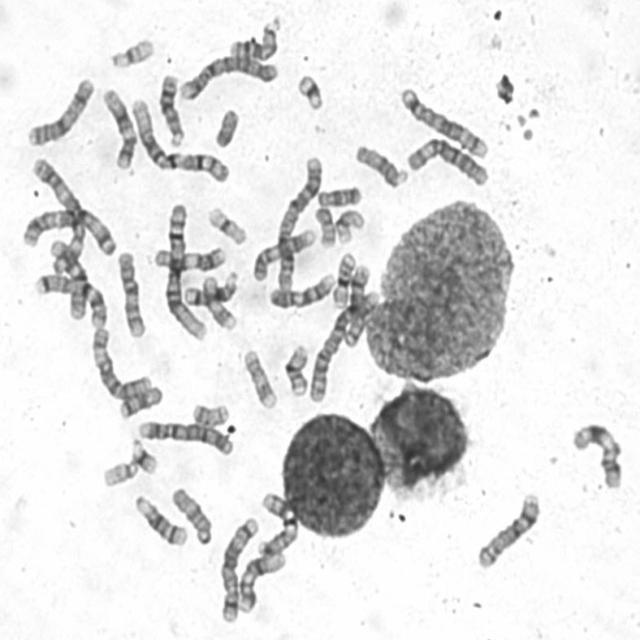A1: (126, 94, 232, 185), (161, 199, 208, 344)
A2: (305, 285, 381, 404), (272, 150, 325, 292)
A3: (28, 152, 88, 300), (17, 204, 119, 258)
B4: (176, 51, 280, 102), (134, 416, 236, 458)
B5: (396, 83, 491, 160), (215, 512, 261, 626)
C10: (46, 234, 92, 322), (114, 246, 148, 340)
C11: (568, 419, 624, 491), (150, 242, 228, 272)
C12: (235, 547, 288, 614), (99, 84, 138, 171)
C6: (88, 324, 154, 401), (403, 132, 490, 188)
C7: (31, 268, 109, 330), (254, 488, 300, 560)
C8: (473, 488, 542, 572), (341, 260, 373, 348)
C9: (250, 223, 320, 283), (266, 267, 337, 311)
D13: (225, 12, 282, 62), (155, 68, 186, 148)
D14: (131, 491, 190, 548), (180, 266, 240, 307)
D15: (168, 483, 215, 546), (352, 140, 409, 189)
E16: (279, 339, 312, 398), (329, 248, 358, 309)
E17: (240, 345, 278, 411), (199, 272, 239, 332)
E18: (115, 381, 164, 421), (314, 182, 364, 208)
F19: (204, 202, 249, 246), (332, 206, 366, 246)
F20: (189, 398, 231, 428), (311, 203, 337, 249)
G21: (293, 69, 326, 112), (128, 433, 159, 476)
G22: (106, 34, 156, 70), (99, 456, 141, 488)
X: (23, 72, 96, 149)
Y: (212, 104, 240, 150)
